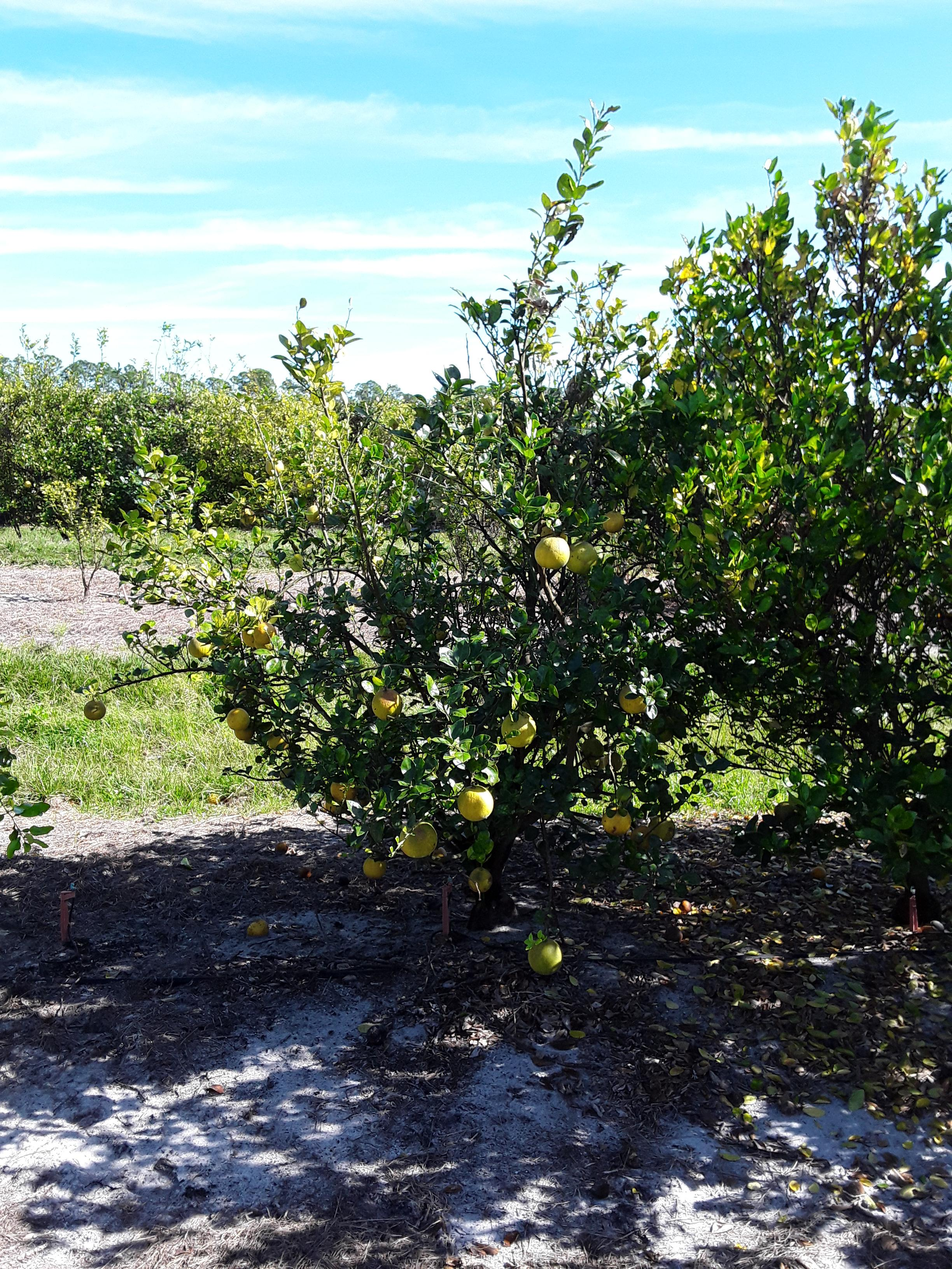fruit_on_ground: (524, 935, 566, 978), (498, 708, 538, 748), (456, 782, 496, 822), (399, 819, 437, 858), (529, 515, 570, 550), (534, 534, 572, 571), (564, 540, 600, 576), (616, 680, 650, 715), (370, 687, 405, 720), (599, 804, 633, 837), (626, 821, 658, 853), (642, 813, 675, 843), (465, 865, 495, 894), (648, 715, 677, 743), (362, 851, 390, 880), (186, 633, 215, 660), (599, 508, 627, 535), (237, 623, 264, 650), (320, 791, 349, 816), (580, 734, 608, 759), (329, 777, 357, 802), (81, 696, 109, 721), (225, 706, 251, 732), (252, 620, 277, 645), (347, 783, 373, 807), (265, 729, 289, 752), (601, 751, 626, 773), (237, 505, 259, 527), (278, 765, 300, 786), (263, 458, 286, 478), (578, 752, 602, 771), (304, 503, 324, 525), (233, 725, 254, 743), (430, 623, 449, 642), (430, 844, 447, 861), (21, 477, 34, 490)
fruit_on_tree: (245, 917, 271, 940), (663, 923, 683, 944), (676, 897, 696, 916), (808, 862, 828, 880), (295, 864, 313, 879), (274, 839, 290, 853)
